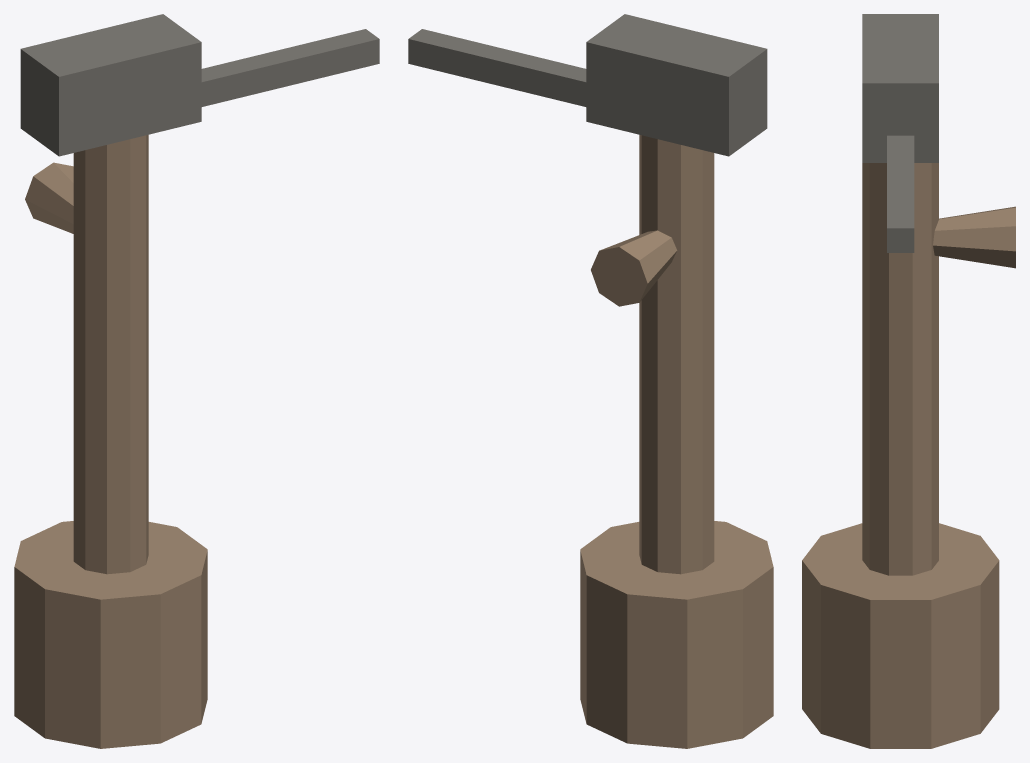
Rendered from waterpump.glb.
3 renders of one model, left to right at view 1: azimuth 30°, elevation 25°; view 2: azimuth 150°, elevation 25°; view 3: azimuth 270°, elevation 25°, orthographic.
Visible parts, largest first — view 1: base; view 2: base; view 3: base.
Part boxes in pixels (<box>): base: <box>14,14,379,748</box>; base: <box>408,14,773,748</box>; base: <box>802,14,1015,748</box>.
Bounding box in the file's own units: 0.7212 × 1.33 × 0.39.
